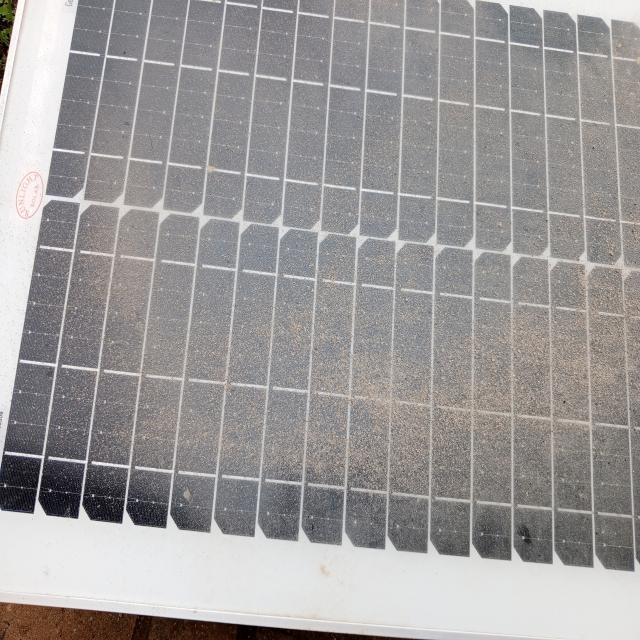Anomaly Solar Panel: (30, 3, 636, 582)
Surface Contaminant: (89, 4, 639, 572)
